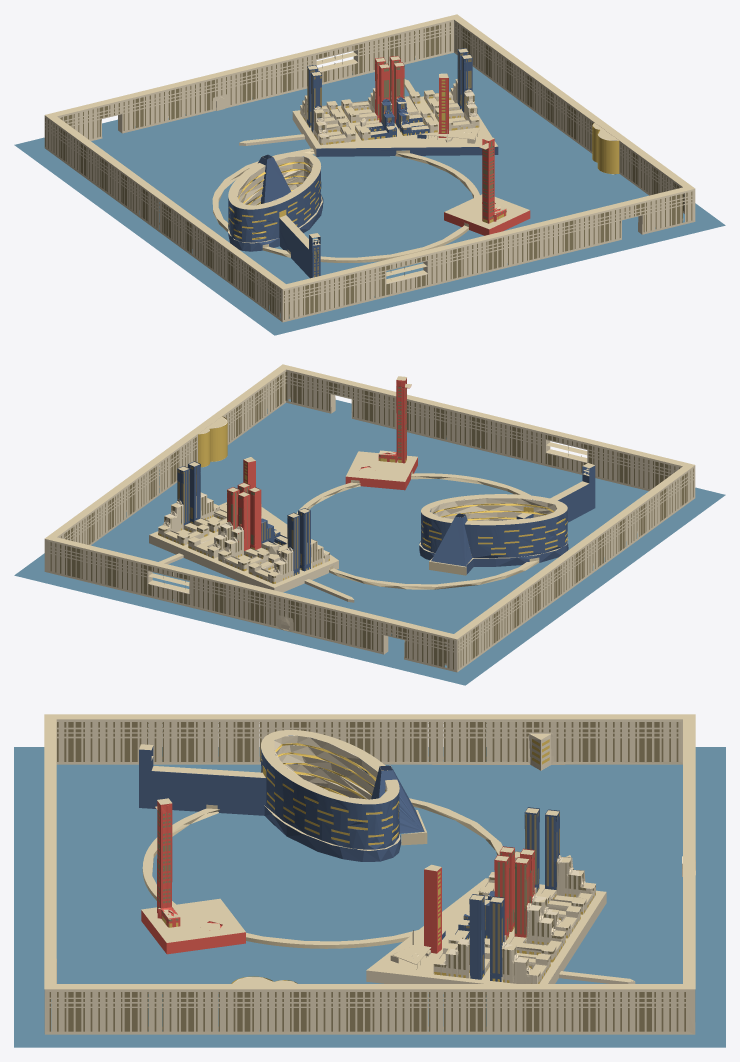
Rendered from phalanstery.glb.
3 renders of one model, top to bottom at view 1: azimuth 30°, elevation 25°; view 2: azimuth 150°, elevation 25°; view 3: azimuth 270°, elevation 25°, orthographic. The views are drawn at different scales.
Parts seen in each view (by area): view 1: water, project:Phal cream, project:Phal stone, project:Phal frame, project:Phal blue, project:Phal coral, project:Phal glass; view 2: water, project:Phal cream, project:Phal frame, project:Phal stone, project:Phal blue, project:Phal coral, project:Phal glass; view 3: water, project:Phal cream, project:Phal stone, project:Phal frame, project:Phal blue, project:Phal coral, project:Phal glass.
Boxes of the visible parts, <box> form: water: <box>14,53,725,335</box>; project:Phal cream: <box>44,19,695,322</box>; project:Phal stone: <box>45,14,694,289</box>; project:Phal frame: <box>45,22,692,319</box>; project:Phal blue: <box>227,48,498,278</box>; project:Phal coral: <box>375,55,530,235</box>; project:Phal glass: <box>228,79,619,258</box>; water: <box>14,399,725,685</box>; project:Phal cream: <box>44,369,695,672</box>; project:Phal frame: <box>50,371,693,669</box>; project:Phal stone: <box>45,364,694,639</box>; project:Phal blue: <box>177,461,595,575</box>; project:Phal coral: <box>227,378,417,550</box>; project:Phal glass: <box>158,416,567,583</box>; water: <box>14,747,725,1047</box>; project:Phal cream: <box>44,719,695,1034</box>; project:Phal stone: <box>44,714,695,989</box>; project:Phal frame: <box>49,722,685,1031</box>; project:Phal blue: <box>139,735,559,981</box>; project:Phal coral: <box>141,801,534,954</box>; project:Phal glass: <box>162,739,595,983</box>.
Bounding box in the file's own units: 1040 × 201 × 1040.
